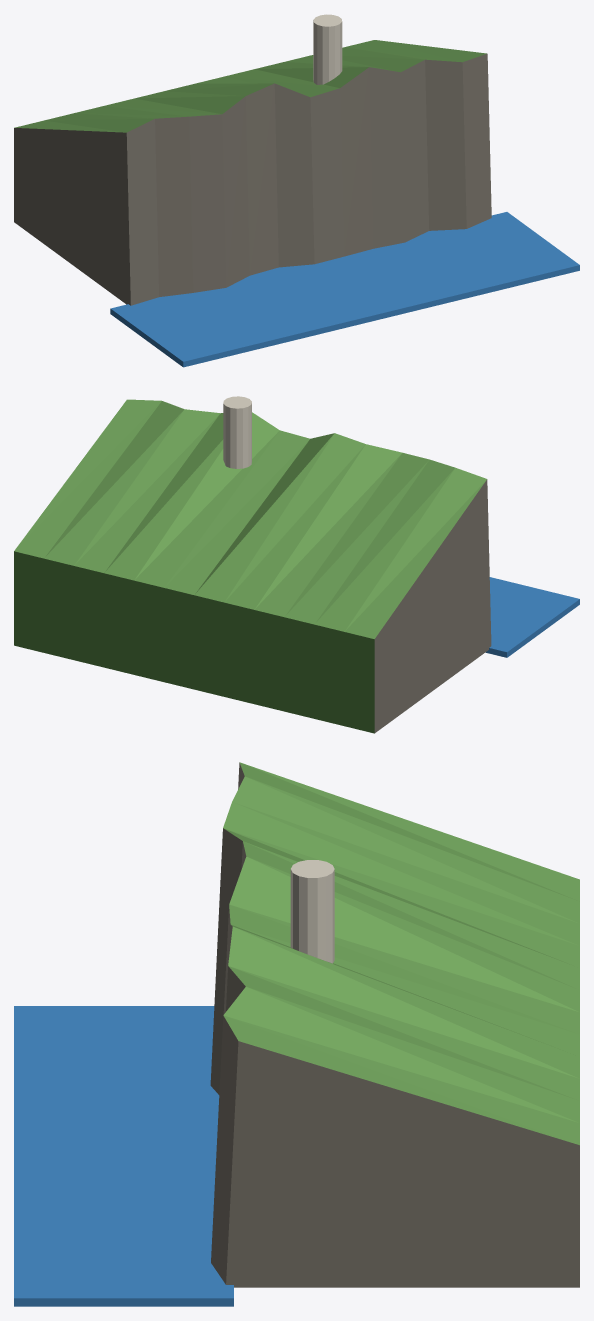
File: cliffs.glb
The picture shows the model from 3 angles, top to bottom: view 1: azimuth 30°, elevation 25°; view 2: azimuth 150°, elevation 25°; view 3: azimuth 270°, elevation 25°; orthographic projection. The views are drawn at different scales.
Bounding box in the file's own units: 2.2 × 1.14 × 1.8.
